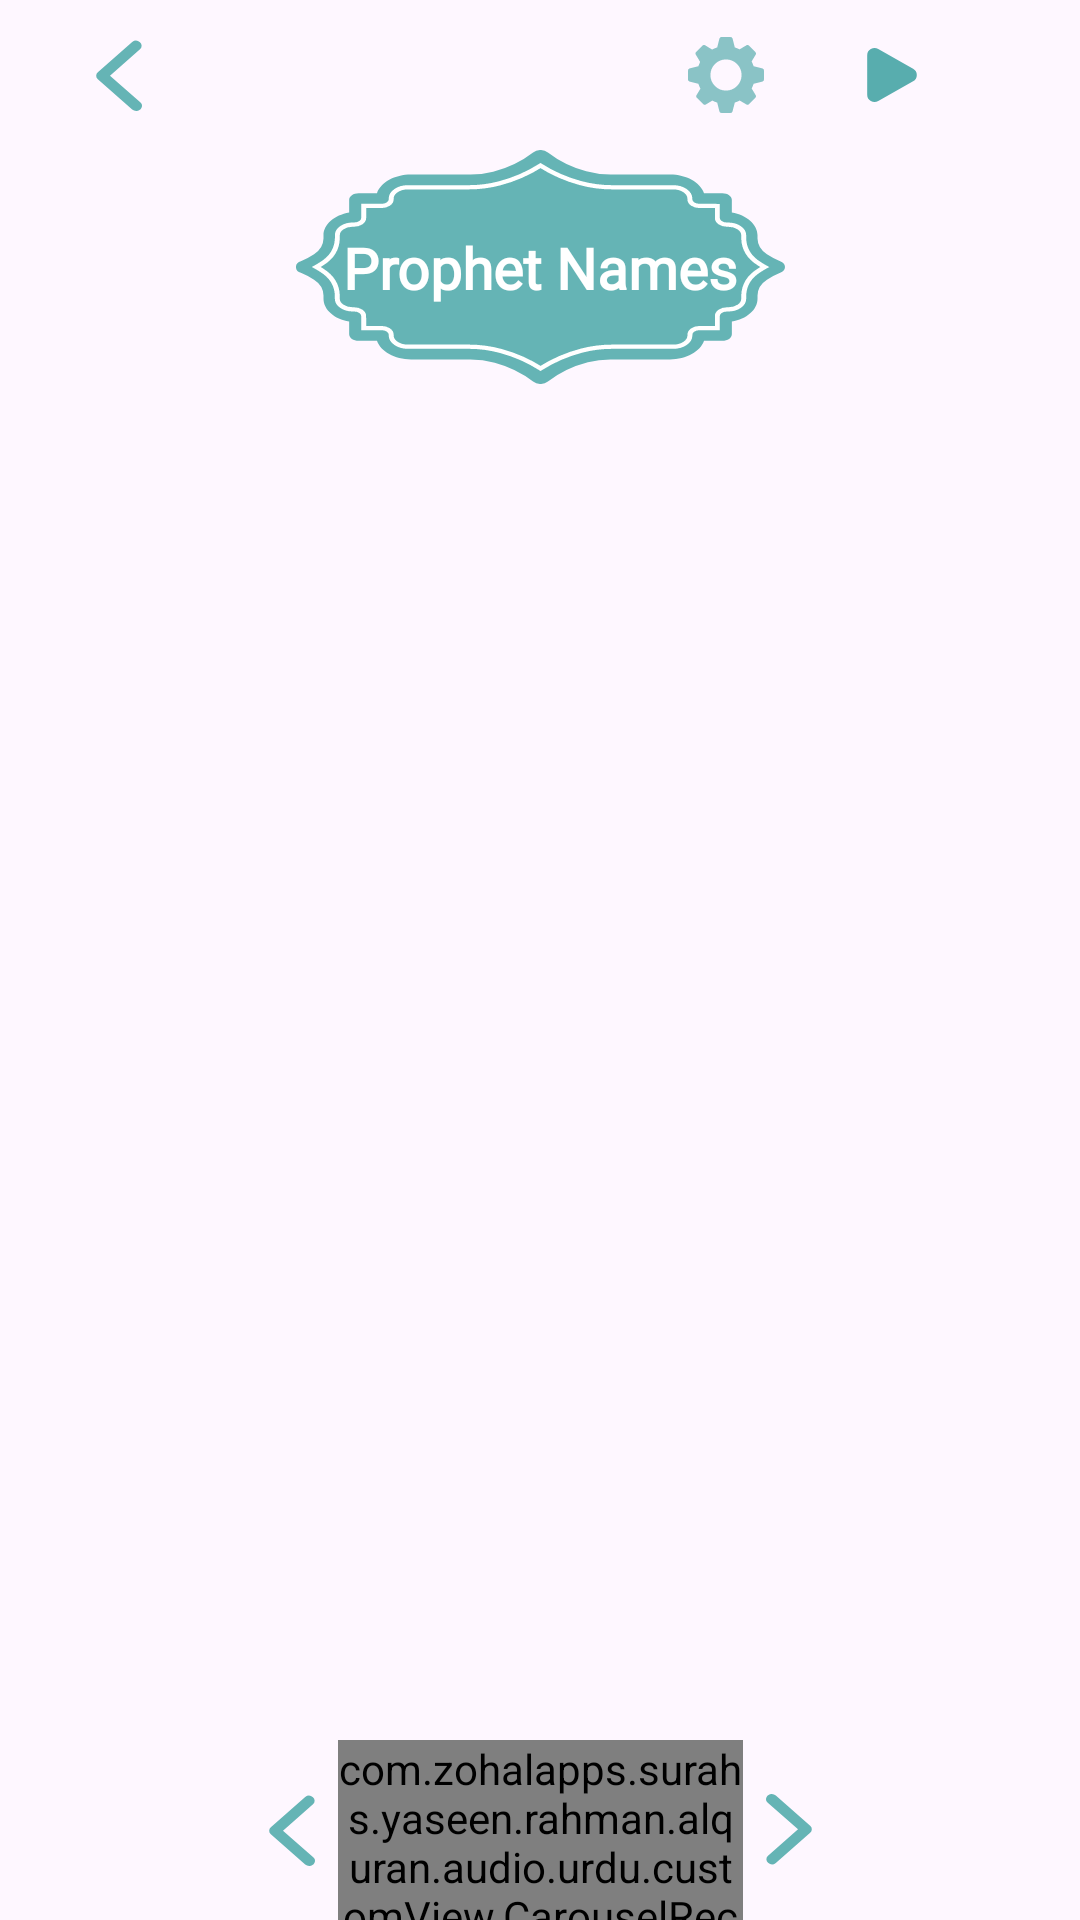

Where icons sit on this 1080px x 1920px app screen, as (x1, y1, x2, y2):
play click: (867, 48, 917, 102)
setting: (688, 37, 764, 113)
